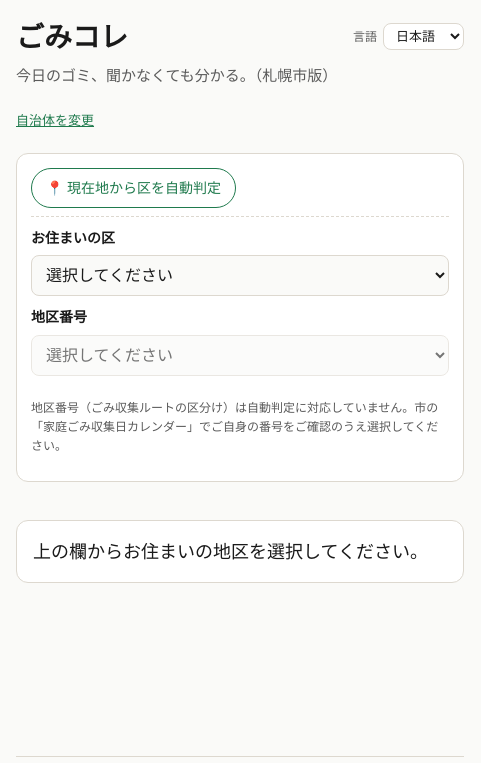
it: App › does not show a reference block for Sapporo itself, since it already has its own dictionary
Select "中央区" in the dropdown labelled "お住まいの区" at (240, 276), box left=31, top=255, right=449, bottom=296
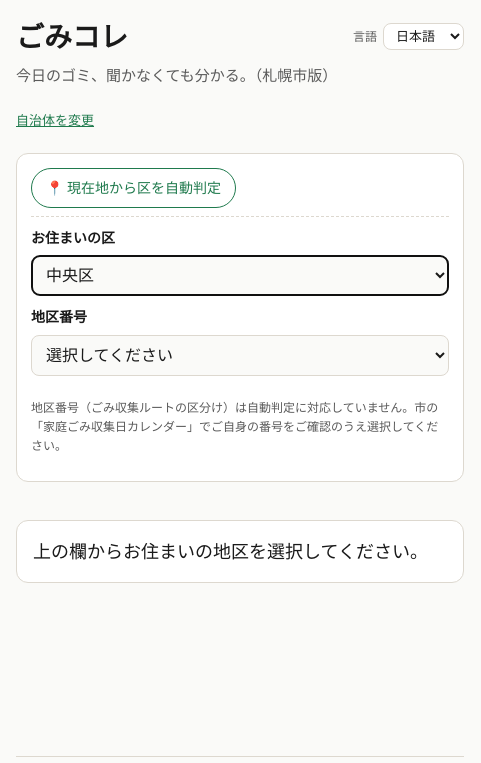
Select "第1地区" in the dropdown labelled "地区番号" at (240, 355), box left=31, top=335, right=449, bottom=376
(page scrolled)
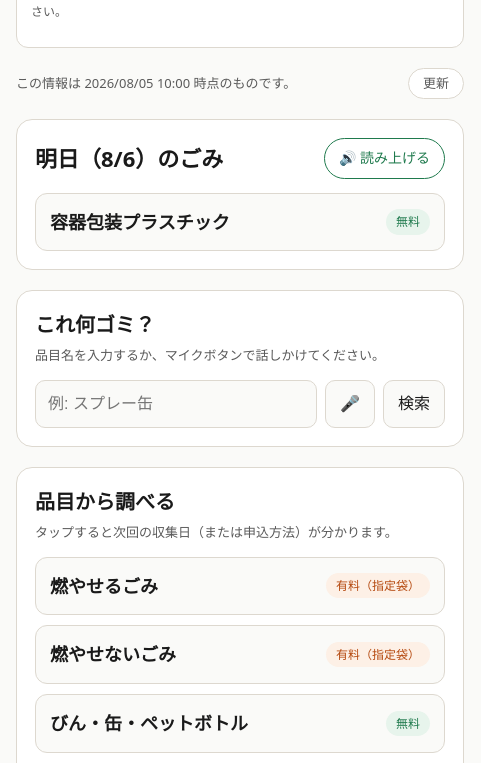
Type "アイスピック" into the field with placeholder "例: スプレー缶" at (176, 404), box left=35, top=380, right=317, bottom=428
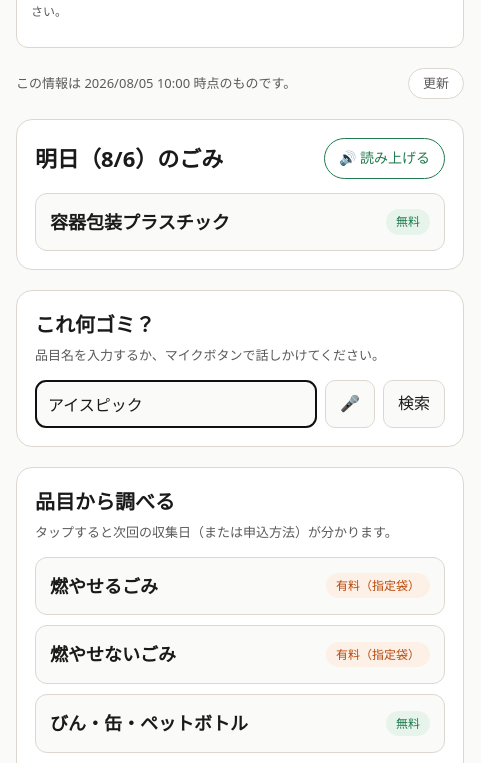
Click the button "検索" at (414, 404), box left=383, top=380, right=445, bottom=428
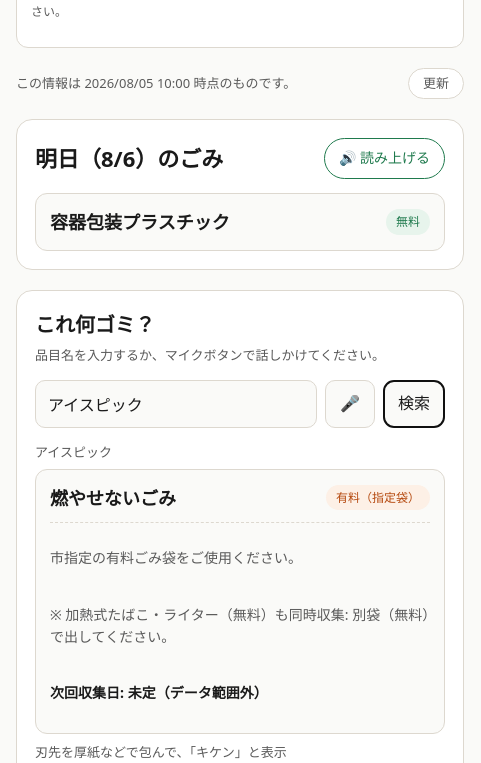
Now the text "燃やせないごみ" is shown, box left=50, top=484, right=176, bottom=512
